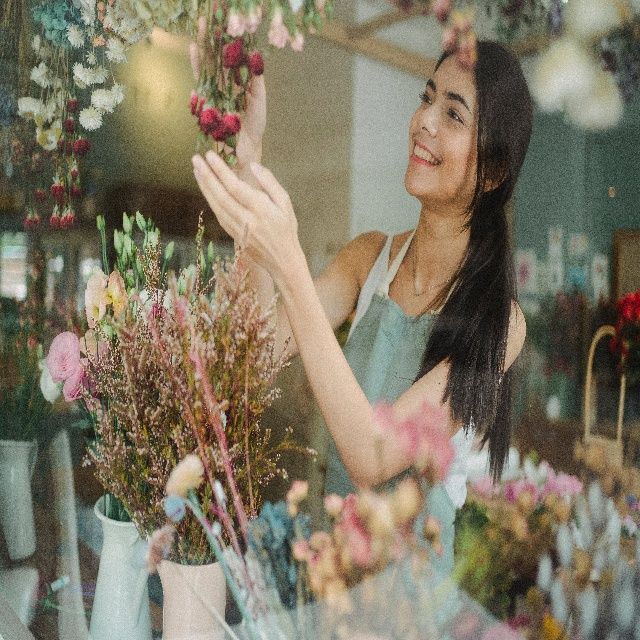Sin_guantes: (190, 149, 298, 273), (190, 15, 266, 151)
